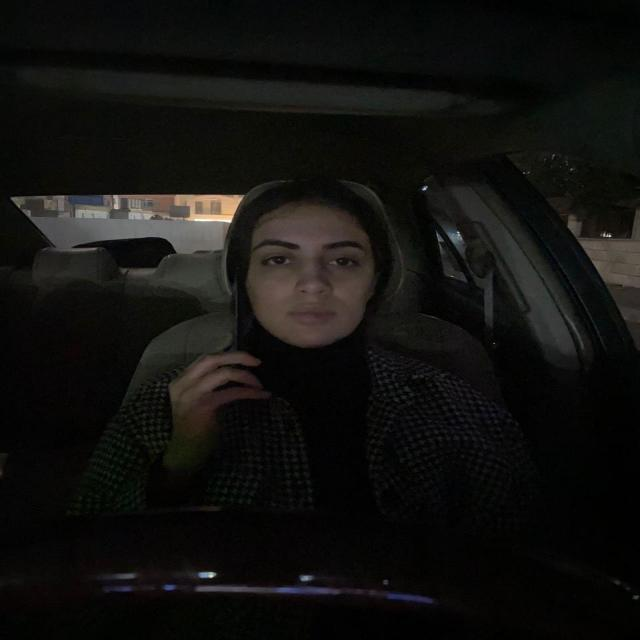mobile: (222, 288, 264, 380)
person: (218, 176, 399, 362)
